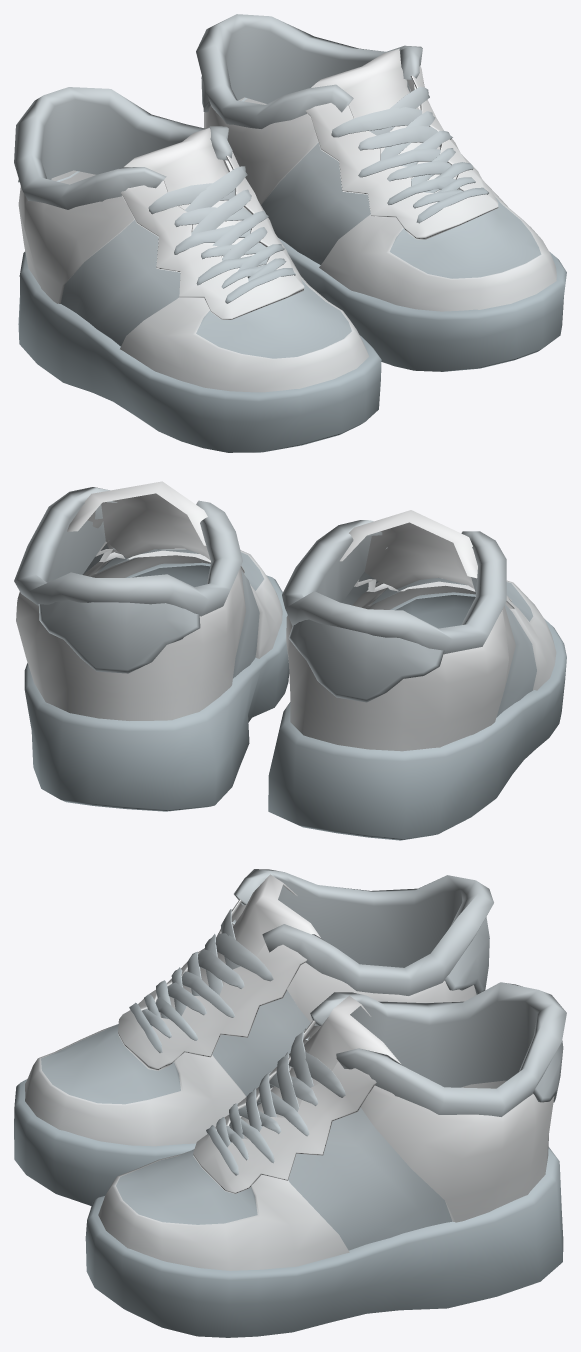
The model's file is Shoe_Sneakers_009_001.glb.
The picture shows the model from 3 angles, top to bottom: view 1: azimuth 30°, elevation 25°; view 2: azimuth 150°, elevation 25°; view 3: azimuth 270°, elevation 25°; orthographic projection. The views are drawn at different scales.
Parts seen in each view (by area): view 1: Shoe_Sneakers_009.001; view 2: Shoe_Sneakers_009.001; view 3: Shoe_Sneakers_009.001.
Boxes of the visible parts, bbox=[...] form: Shoe_Sneakers_009.001: bbox=[14, 14, 566, 452]; Shoe_Sneakers_009.001: bbox=[14, 481, 566, 840]; Shoe_Sneakers_009.001: bbox=[14, 869, 566, 1337].
Size of the model in its own units: 0.3946 by 0.1946 by 0.3689.
Materials: 1 (1 with a texture image).
